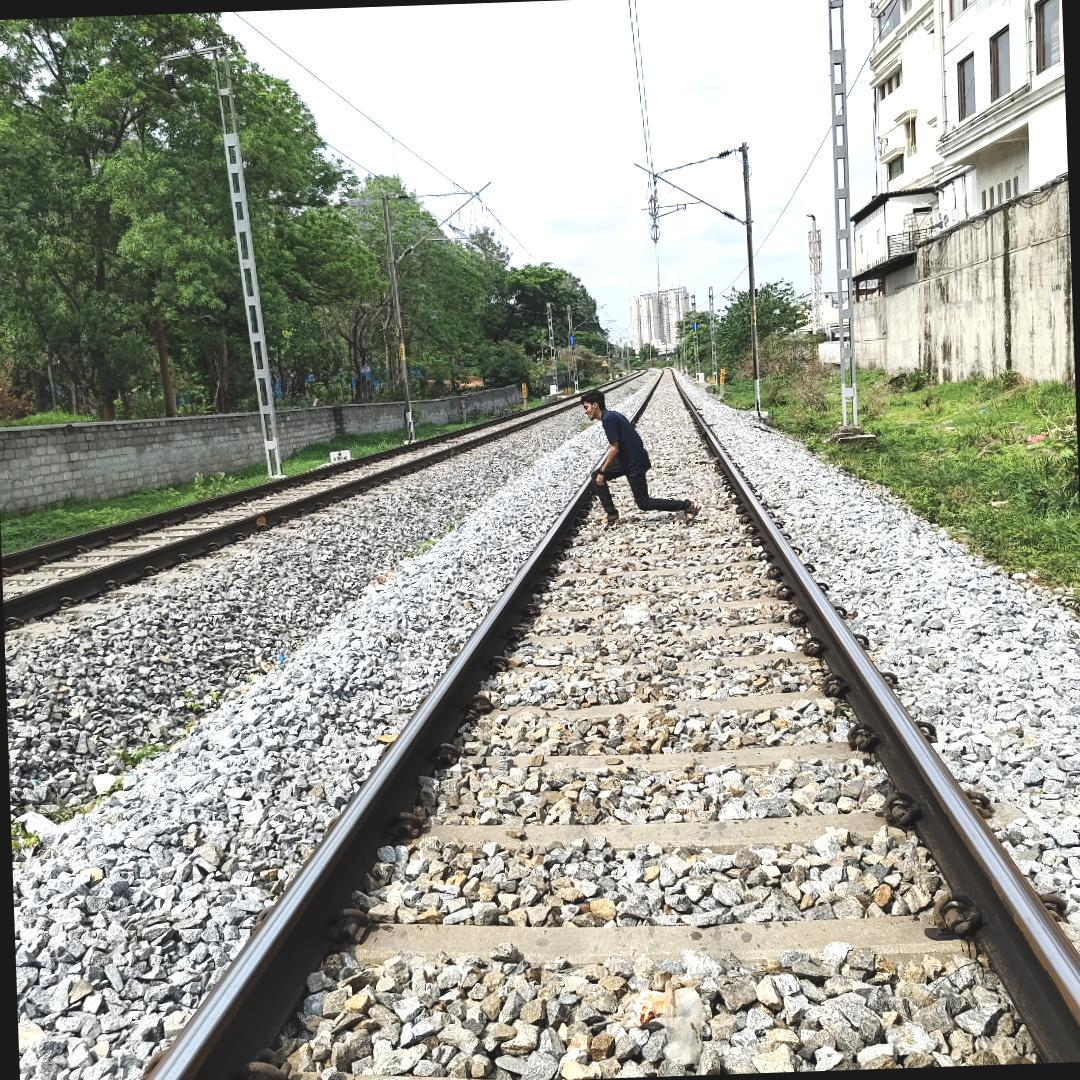sitting: (572, 385, 701, 538)
track: (112, 360, 1080, 1080)
